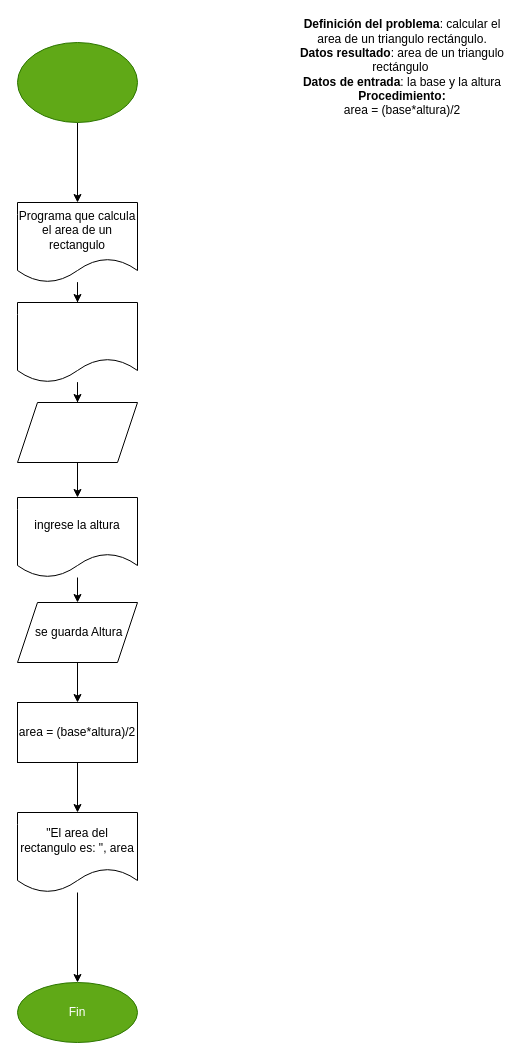
Image size: 525x1060. Some labels were removed from this diagram. The centre of each missing label's shape, as x and y in pixels:
"Ingrese la base" belongs at point 77,342.
"Inicio" belongs at point 77,82.
"se guarda base" belongs at point 77,432.
